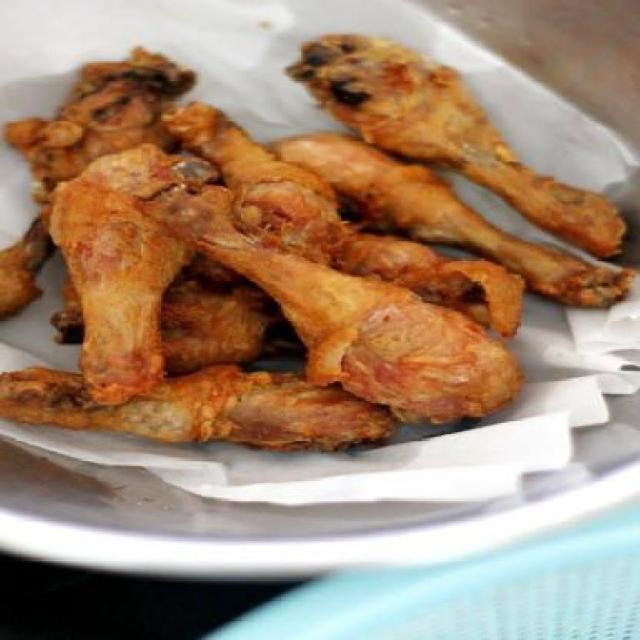Wet Waste: (130, 170, 516, 418), (280, 31, 638, 266), (262, 135, 624, 311), (0, 58, 191, 317), (51, 150, 200, 408), (0, 366, 375, 455)
